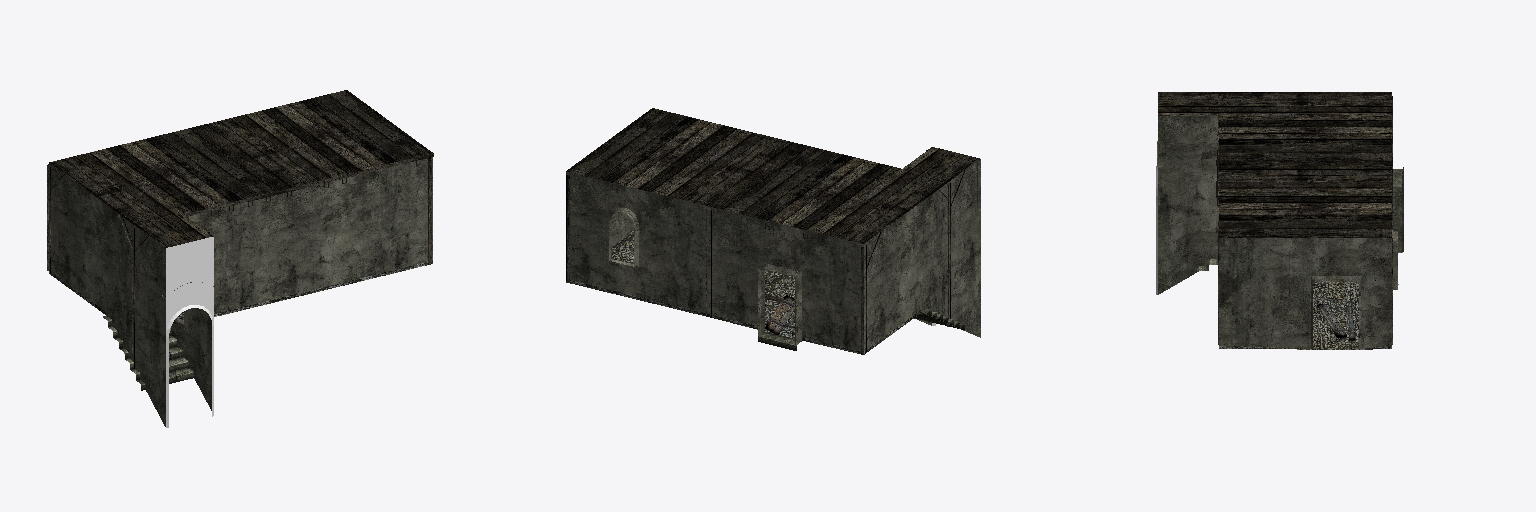
3 views of the same model, side by side, from view 1: azimuth 30°, elevation 25°; view 2: azimuth 150°, elevation 25°; view 3: azimuth 270°, elevation 25° (orthographic).
Parts seen in each view (by area): view 1: mesh5, mesh9, mesh4, mesh10, mesh6; view 2: mesh5, mesh9, mesh8, mesh6, mesh10, mesh2; view 3: mesh9, mesh5, mesh7, mesh8, mesh2.
Boxes of the visible parts, <box> form: mesh5: <box>49,153,432,426</box>; mesh9: <box>47,90,433,368</box>; mesh4: <box>166,237,213,427</box>; mesh10: <box>103,316,193,390</box>; mesh6: <box>49,261,432,316</box>; mesh5: <box>566,149,980,350</box>; mesh9: <box>566,108,979,353</box>; mesh8: <box>612,233,794,338</box>; mesh6: <box>566,231,921,354</box>; mesh10: <box>758,309,964,350</box>; mesh2: <box>765,295,794,335</box>; mesh9: <box>1158,92,1392,344</box>; mesh5: <box>1157,116,1403,348</box>; mesh7: <box>1300,309,1371,349</box>; mesh8: <box>1297,282,1372,349</box>; mesh2: <box>1317,280,1375,340</box>.
Bounding box in the file's own units: 10.04 × 5.53 × 6.93.
12 materials, 9 textured.